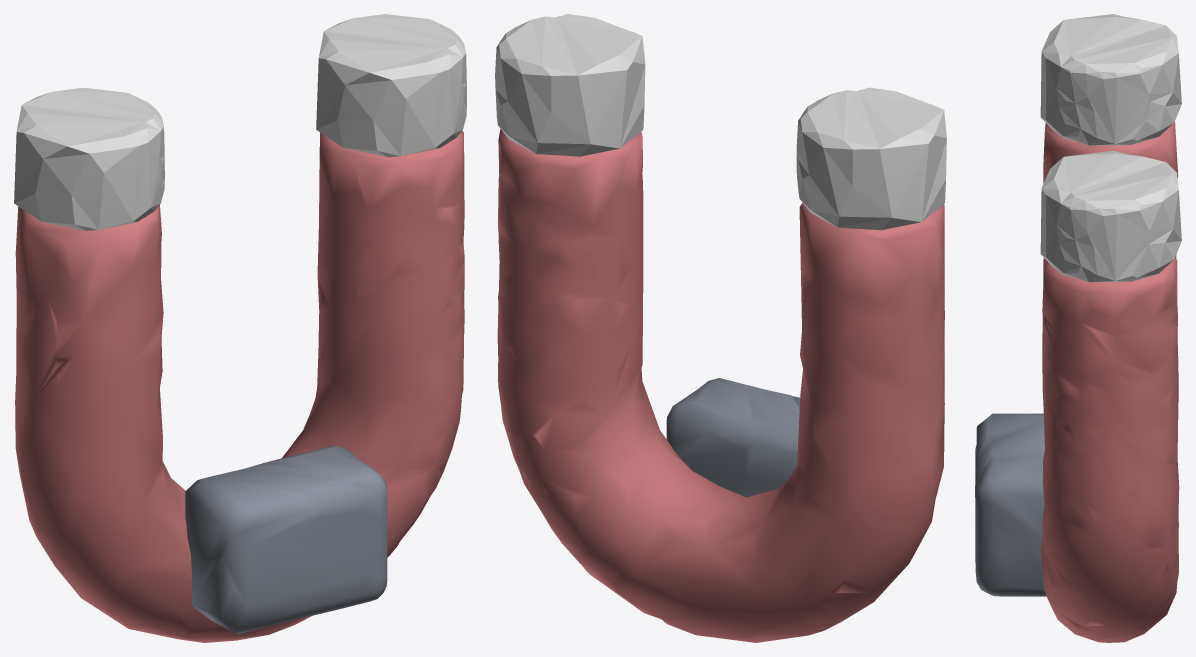
File: gear_aimant.glb
The picture shows the model from 3 angles, left to right: view 1: azimuth 30°, elevation 25°; view 2: azimuth 150°, elevation 25°; view 3: azimuth 270°, elevation 25°; orthographic projection. The views are drawn at different scales.
Parts seen in each view (by area): view 1: torso__aimant, torso__aimant_glow; view 2: torso__aimant, torso__aimant_glow; view 3: torso__aimant, torso__aimant_glow.
Boxes of the visible parts, x1=… form: torso__aimant: x1=15, y1=131, x2=464, y2=642; torso__aimant_glow: x1=14, y1=14, x2=466, y2=230; torso__aimant: x1=497, y1=129, x2=944, y2=642; torso__aimant_glow: x1=495, y1=14, x2=946, y2=230; torso__aimant: x1=975, y1=121, x2=1179, y2=642; torso__aimant_glow: x1=1040, y1=14, x2=1181, y2=282.
Bounding box in the file's own units: 0.2059 × 0.252 × 0.0921.
